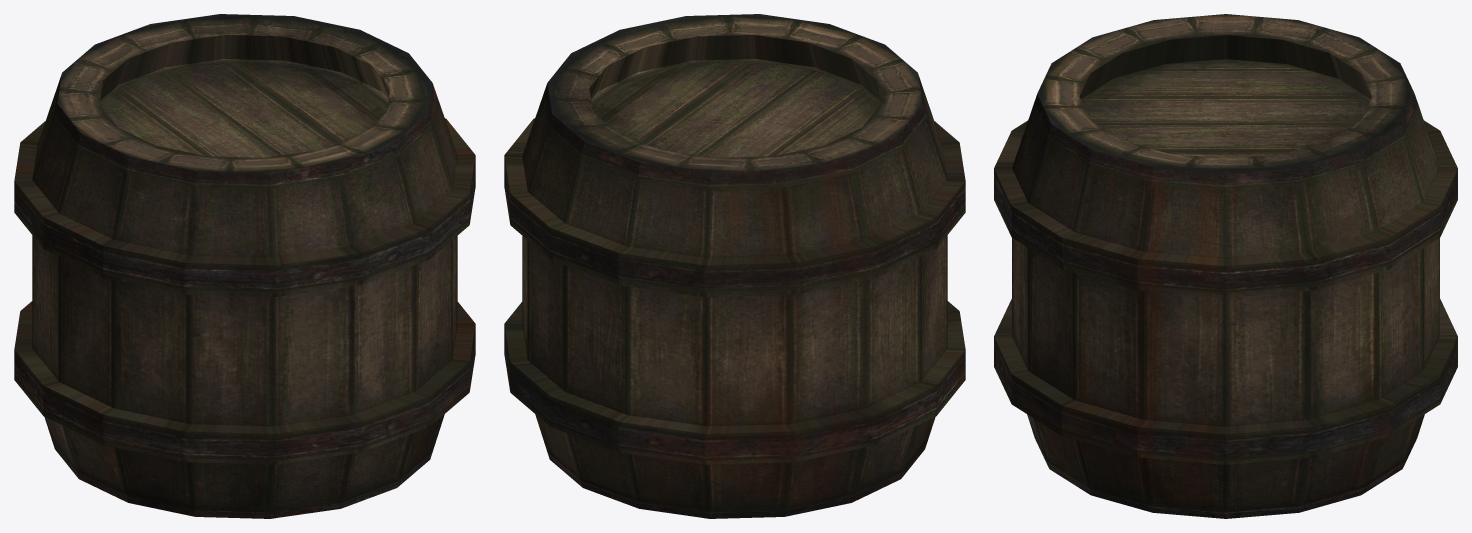
Rendered from BarrelV2.fbx.
3 views of the same model, side by side, from view 1: azimuth 30°, elevation 25°; view 2: azimuth 150°, elevation 25°; view 3: azimuth 270°, elevation 25° (orthographic).
Parts seen in each view (by area): view 1: Barrel; view 2: Barrel; view 3: Barrel.
Boxes of the visible parts, <box> form: Barrel: <box>14,14,475,518</box>; Barrel: <box>504,14,965,518</box>; Barrel: <box>994,14,1457,518</box>.
Size of the model in its own units: 297 by 243 by 297.
1 material, 1 textured.
